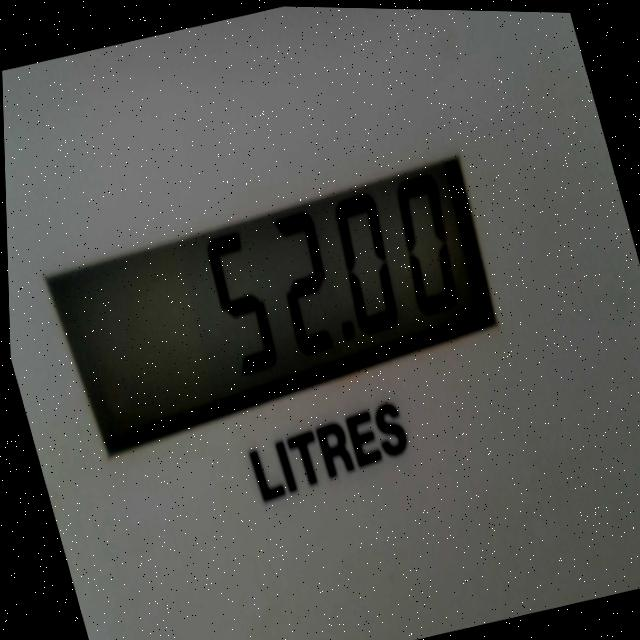.: (331, 304, 367, 353)
0: (371, 160, 473, 326), (317, 183, 414, 345)
2: (255, 210, 346, 361)
5: (176, 225, 294, 407)
